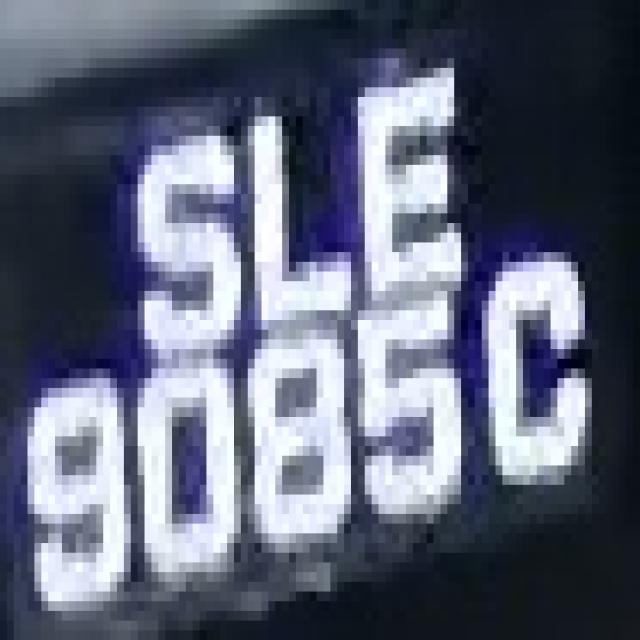0: (103, 349, 255, 592)
5: (337, 282, 468, 562)
8: (241, 320, 358, 582)
9: (20, 349, 130, 640)
C: (474, 242, 606, 524)
E: (330, 58, 468, 320)
L: (234, 78, 351, 358)
S: (89, 106, 234, 358)
